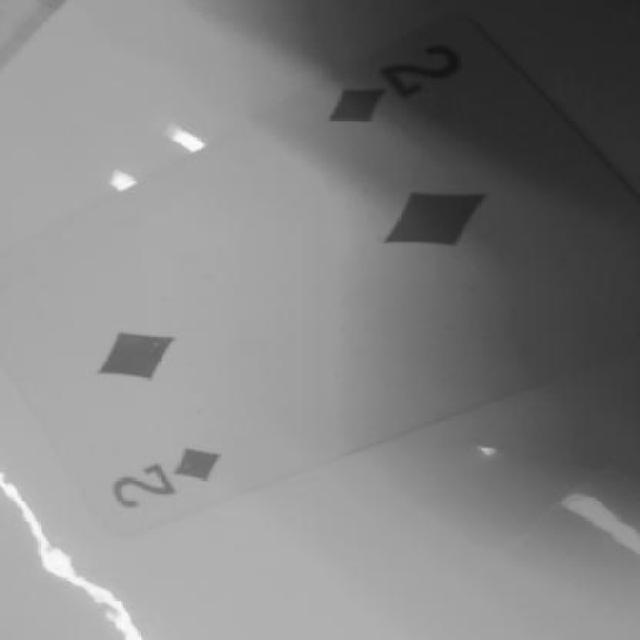2D: (316, 39, 490, 138), (78, 435, 271, 514)
